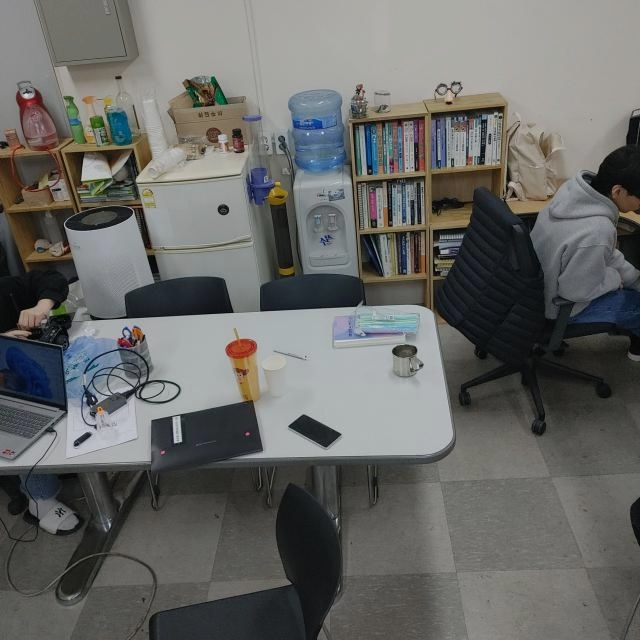cup: (391, 342, 425, 378)
phone: (288, 411, 342, 450)
